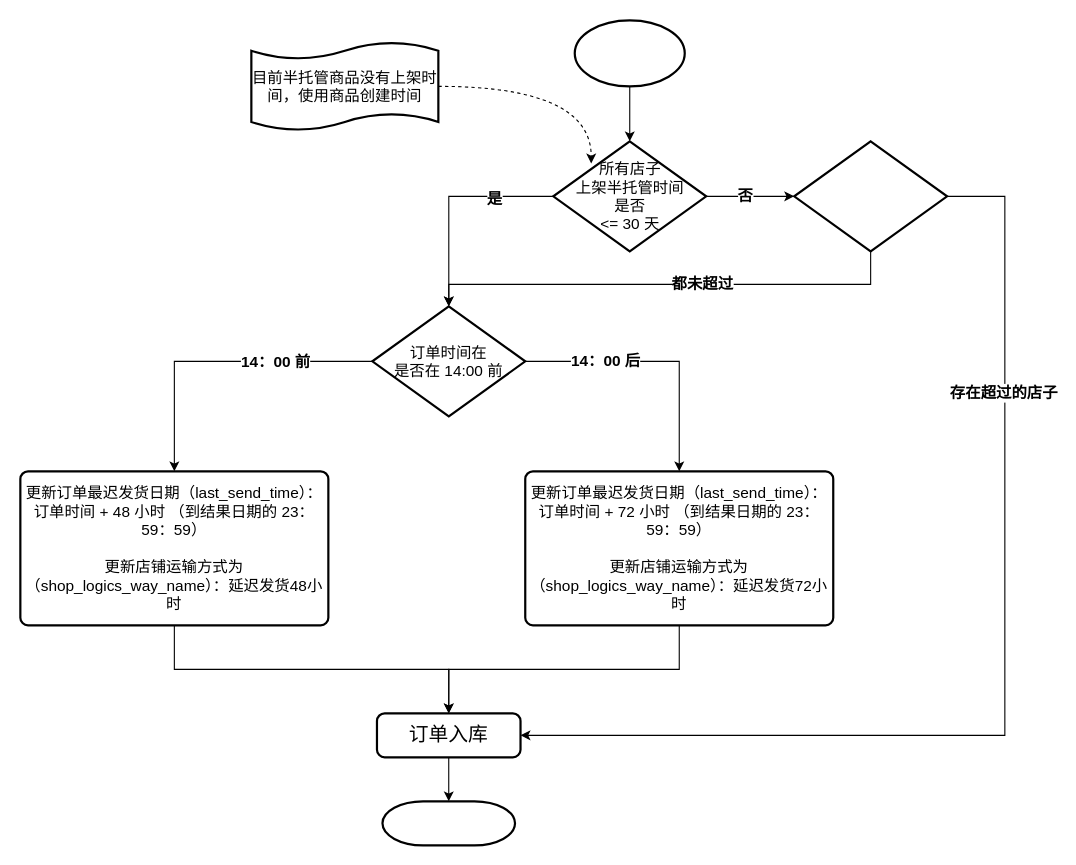
The diagram is 1076 pixels wide and 865 high, and some of its shapes have lost their labels. Here are the shapes that lost their labels. From the top down, the centre of each, then its label:
At (x=629, y=53): "半托管拉单".
At (x=870, y=196): "所有店子 上月订单量 是否未超过 配置参数".
At (x=448, y=823): "结束".
